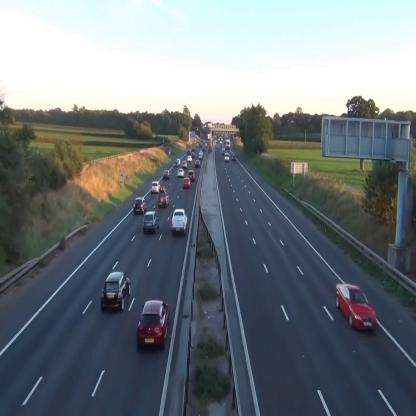car: (336, 283, 376, 333), (137, 301, 170, 351), (101, 270, 131, 313), (172, 209, 187, 235), (143, 210, 159, 233), (133, 198, 147, 214), (158, 191, 169, 207), (151, 181, 160, 192), (183, 177, 191, 188), (163, 169, 170, 180), (187, 169, 194, 179), (178, 169, 184, 177), (224, 153, 230, 161), (176, 158, 181, 165), (182, 161, 187, 167), (195, 160, 200, 166), (188, 155, 192, 162), (232, 154, 236, 160)
